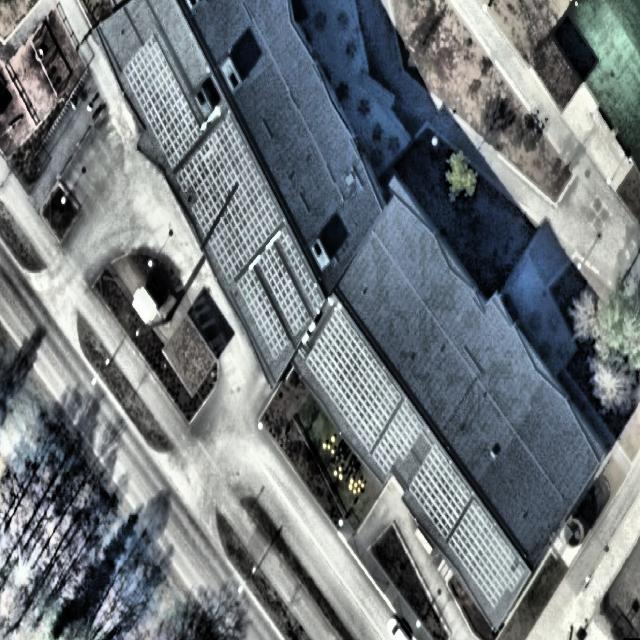roof_pv: (305, 303, 423, 476), (448, 495, 526, 613), (180, 111, 278, 199), (183, 198, 283, 283), (412, 442, 473, 537), (133, 101, 202, 170), (125, 35, 186, 100), (237, 280, 285, 354), (285, 229, 308, 336), (308, 272, 324, 321)
